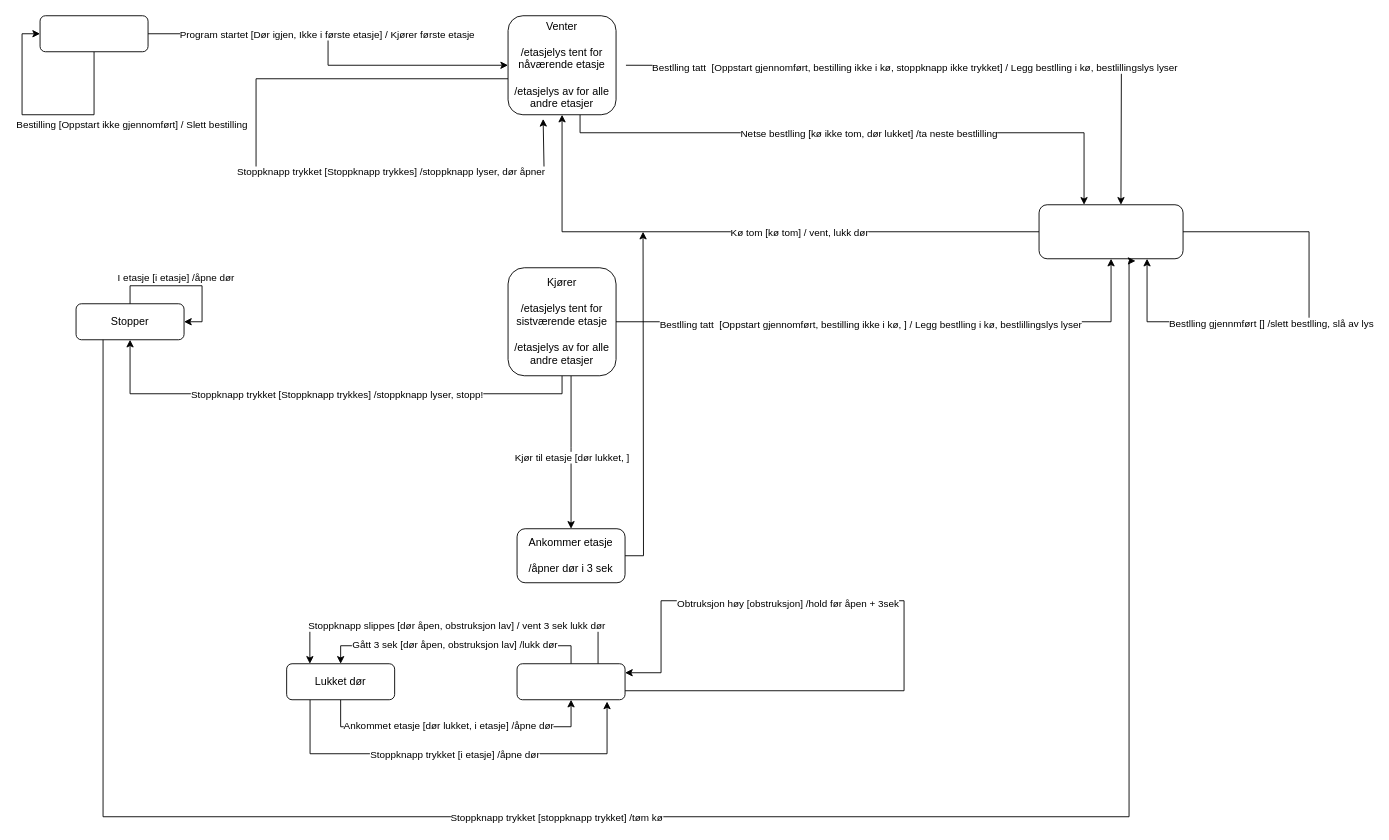
The diagram is 1389 pixels wide and 840 high, and some of its shapes have lost their labels. Here are the shapes that lost their labels. From the top down, the box of each, then its label:
(39, 15, 148, 52): Oppstart
(1038, 204, 1183, 259): Retning prioritert kø /sorter kø etter aktiv tilstand/retning
(516, 663, 625, 700): Åpen dør
